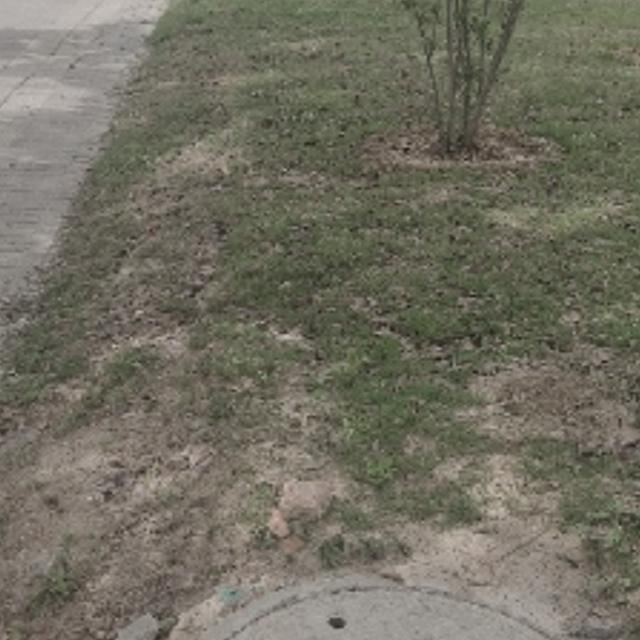good: (156, 565, 640, 640)
